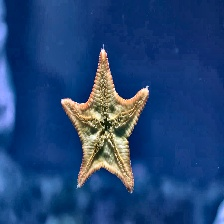starfish: (60, 44, 151, 193)
